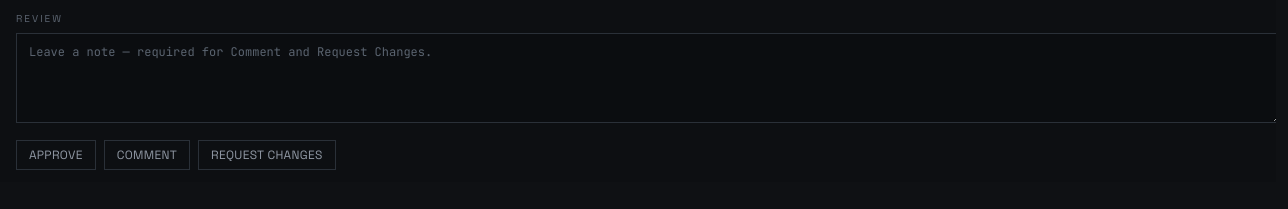
Test: ReviewActions › surfaces backend errors inline without crashing the panel
Step 1. Click the button with test id "review-approve" → (56, 155), box top-left (16, 140), bottom-right (96, 170)
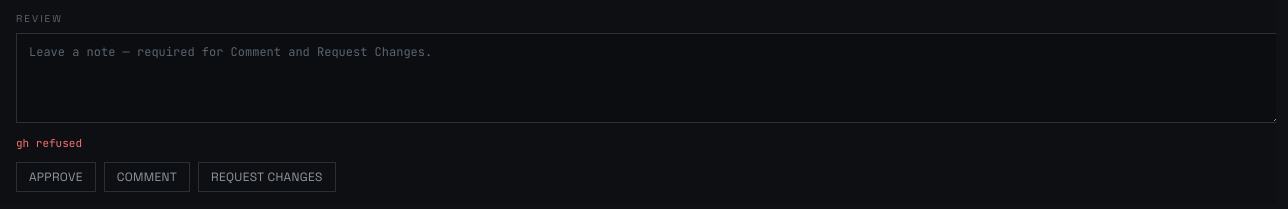
expect the text with test id "review-error" reads "gh refused": met, box top-left (16, 136), bottom-right (82, 150)
